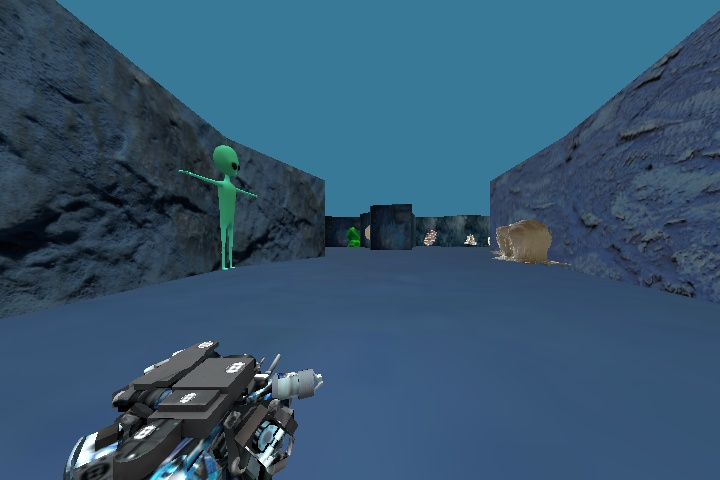formation: (493, 218, 556, 268)
green_alien: (179, 132, 254, 268)
green_crystal: (338, 223, 362, 249)
mushrooms: (418, 226, 438, 248)
